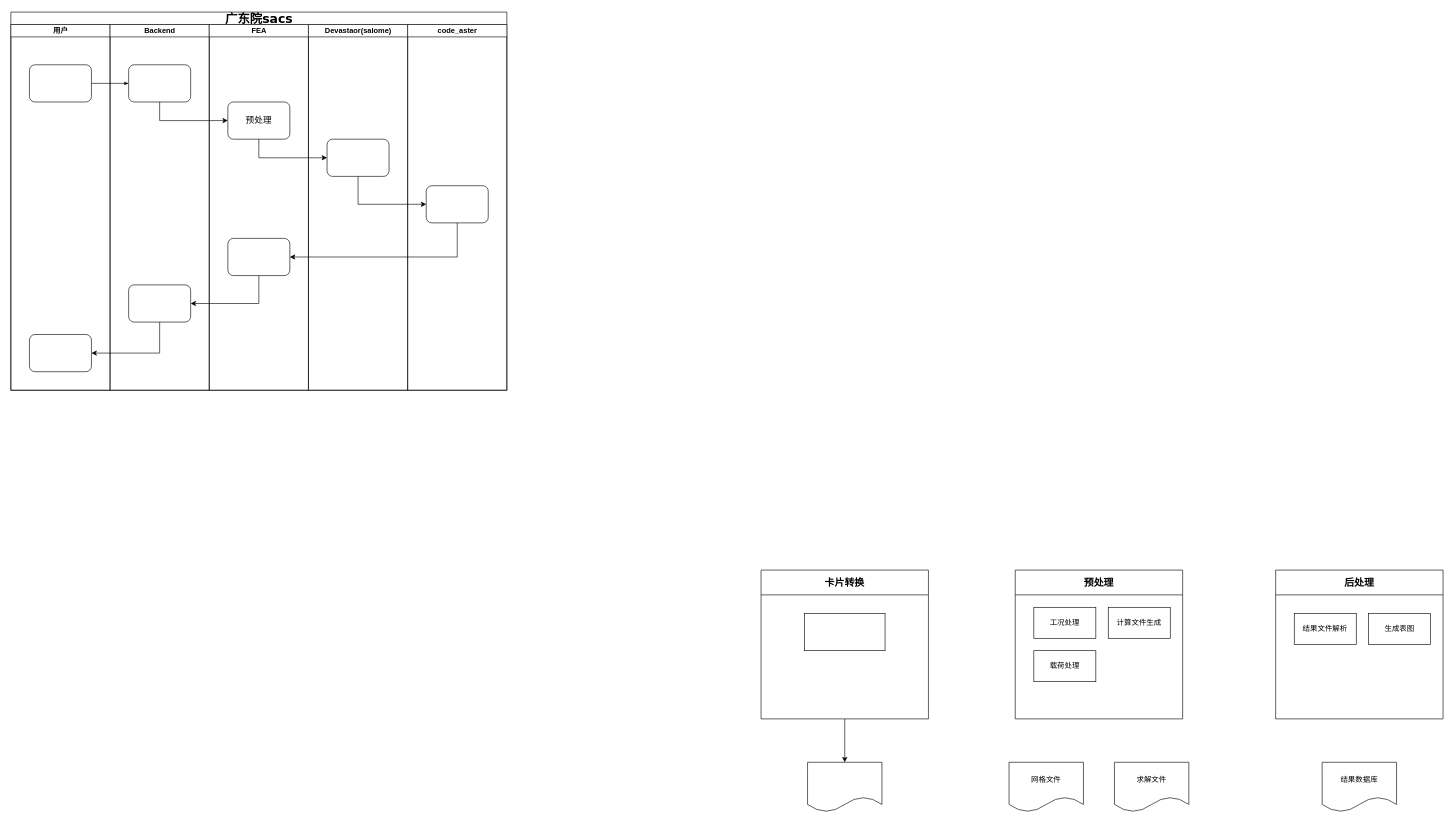
Image size: 1454x823. Some labels were removed from this diagram. Each missing label, with the centre of its shape:
"sacs卡片数据解析转换" belongs at point (844, 632).
"中间数据库" belongs at point (844, 787).
"分配作业" belongs at point (159, 83).
"存储数据库" belongs at point (159, 303).
"工况请求" belongs at point (60, 83).
"得到结果" belongs at point (60, 353).
"求解计算" belongs at point (457, 204).
"生成求解文件" belongs at point (357, 157).
"结果后处理" belongs at point (258, 257).
